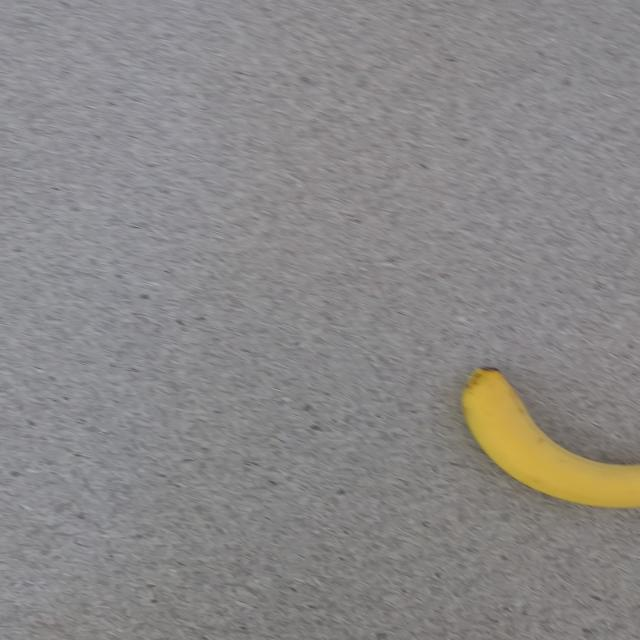banana: (460, 366, 639, 509)
